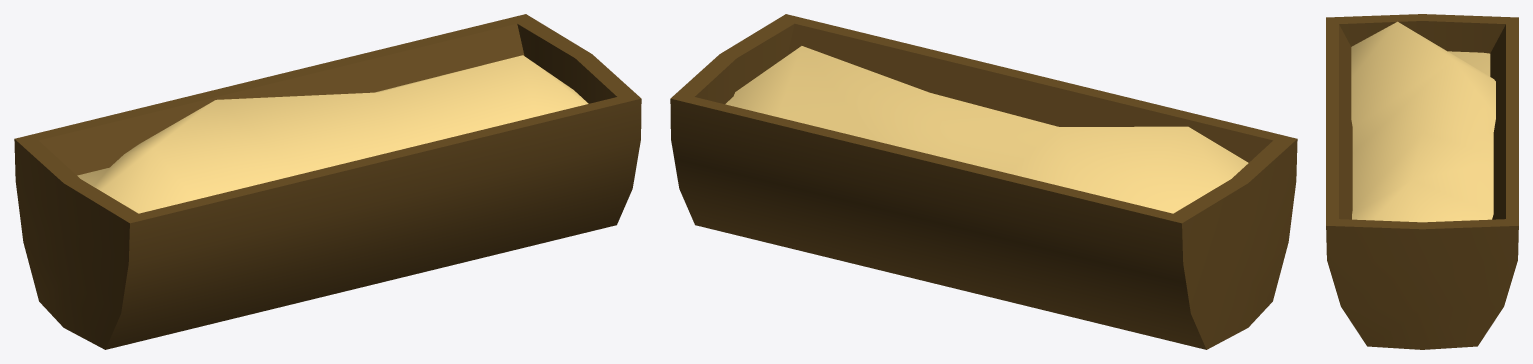
The model's file is mesh_small_trof1.fbx.
The picture shows the model from 3 angles, left to right: view 1: azimuth 30°, elevation 25°; view 2: azimuth 150°, elevation 25°; view 3: azimuth 270°, elevation 25°; orthographic projection. The views are drawn at different scales.
Visible parts, largest first — view 1: small_trof1; view 2: small_trof1; view 3: small_trof1.
Part boxes in pixels (bbox=[...]): small_trof1: bbox=[14, 14, 641, 349]; small_trof1: bbox=[670, 14, 1297, 349]; small_trof1: bbox=[1326, 14, 1518, 349].
Bounding box in the file's own units: 179 × 55.8 × 67.65.
Materials: 2 (2 with a texture image).
